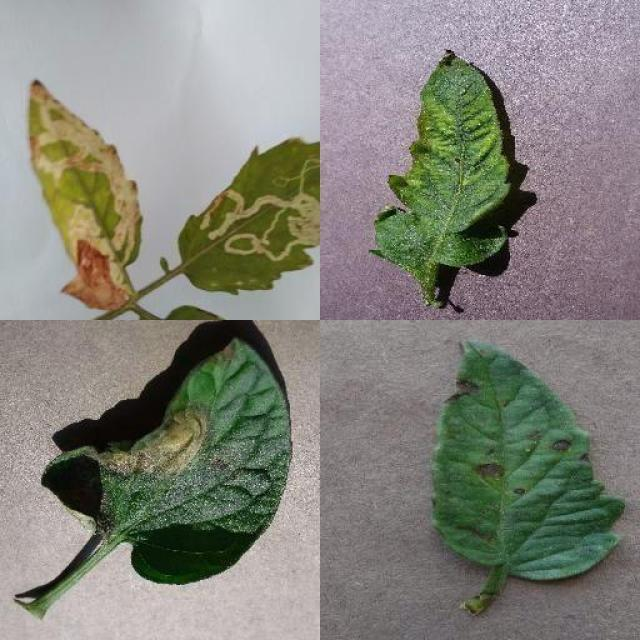Early Blight: (432, 340, 628, 585)
Late Blight: (39, 334, 294, 586)
